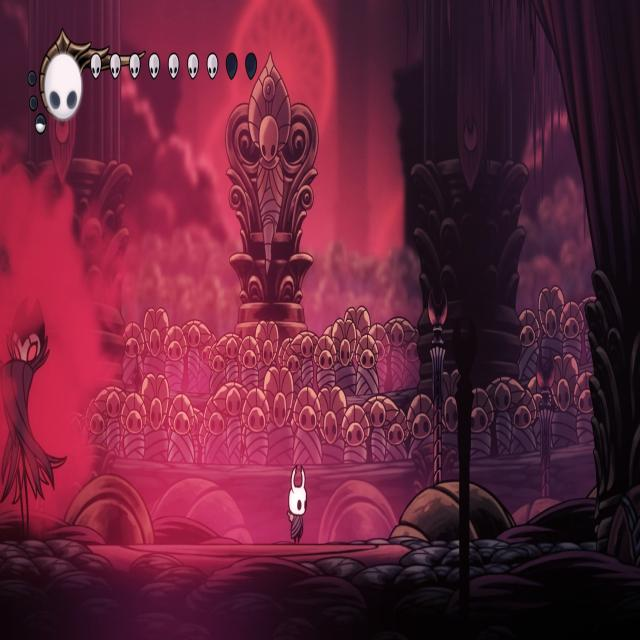Grimm: (0, 297, 69, 537)
Player: (284, 462, 310, 547)
